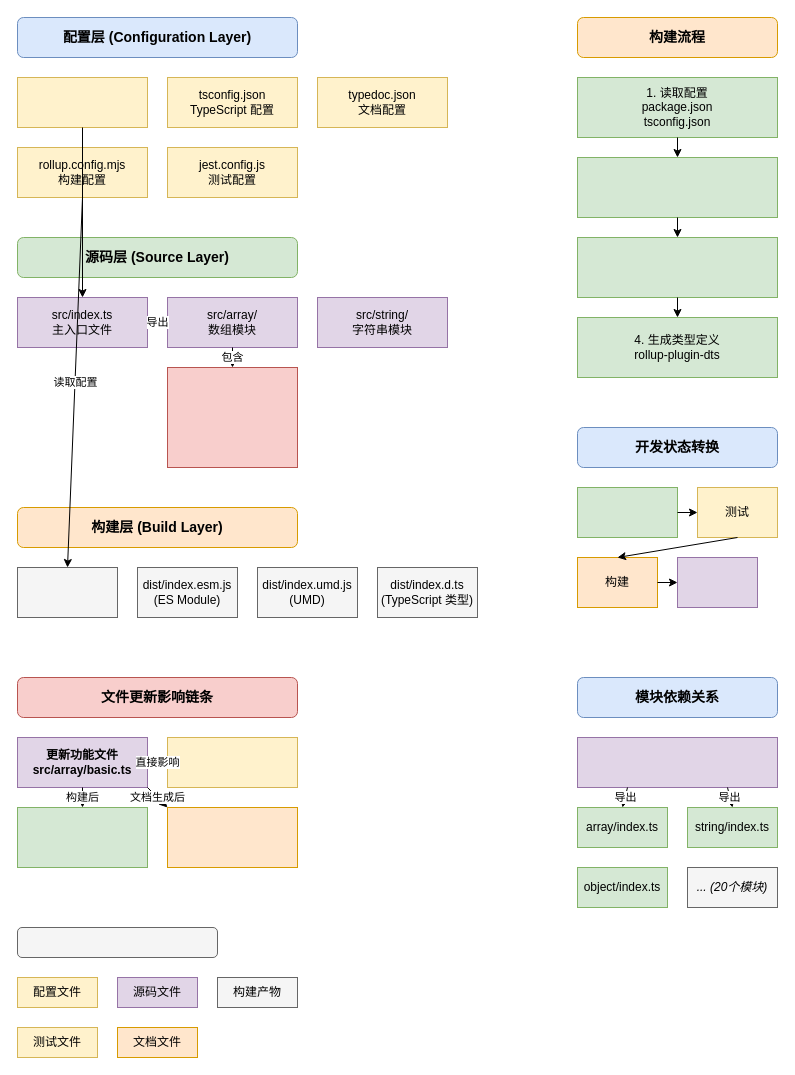
Some shapes in this 795 by 1075 pixel diagram are drawn without their labels. Each missing label, with the centre of its shape:
"2. TypeScript 编译 rollup-plugin-typescript2" goes at [677,187].
"3. 打包输出 CJS / ESM / UMD" goes at [677,267].
"array/ ├── index.ts ├── basic.ts ├── compare.ts ├── __tests__/ └── README.md" goes at [232,417].
"dist/index.js (CommonJS)" goes at [67,592].
"package.json 项目配置、依赖、脚本" goes at [82,102].
"src/index.ts (主入口)" goes at [677,762].
"图例" goes at [117,942].
"开发状态" goes at [627,512].
"必须更新 __tests__/basic.test.ts" goes at [232,762].
"文档" goes at [717,582].
"自动更新 dist/array/basic.js dist/array/basic.d.ts" goes at [82,837].
"自动更新 docs/api/.../basic.md" goes at [232,837].
